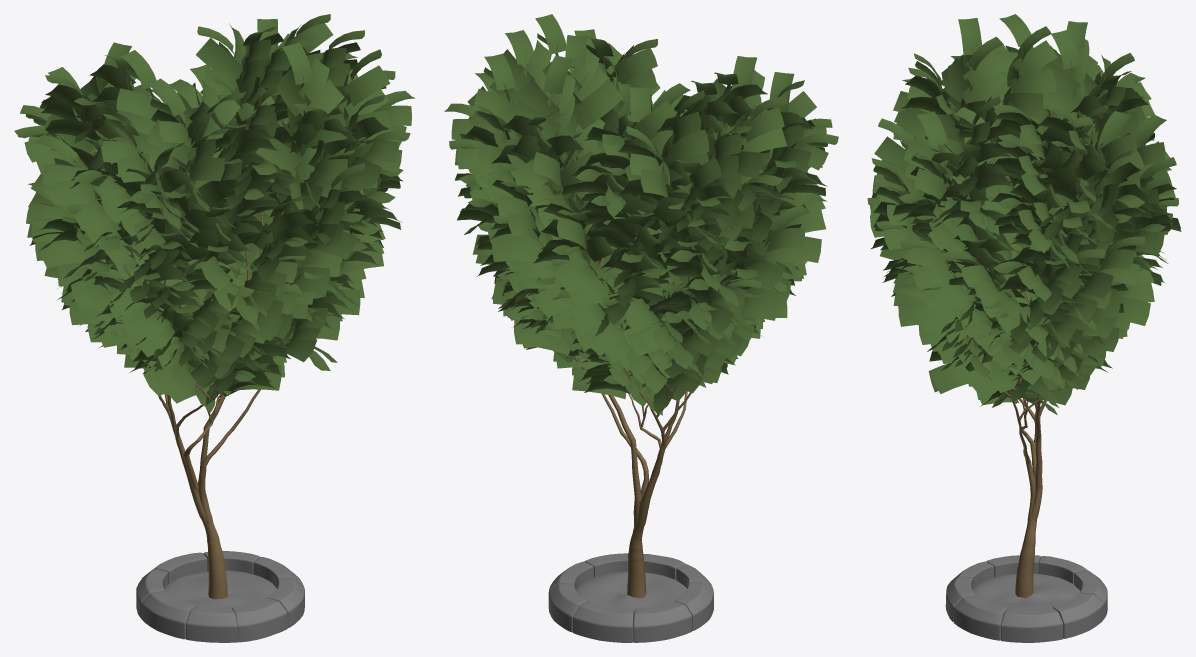
The model's file is Tree_2.fbx.
3 renders of one model, left to right at view 1: azimuth 30°, elevation 25°; view 2: azimuth 150°, elevation 25°; view 3: azimuth 270°, elevation 25°, orthographic. The views are drawn at different scales.
Parts seen in each view (by area): view 1: Tree_2_GEO; view 2: Tree_2_GEO; view 3: Tree_2_GEO.
Boxes of the visible parts, box(x1,y1,x2,y2) form: Tree_2_GEO: box(14, 14, 415, 642); Tree_2_GEO: box(444, 14, 838, 642); Tree_2_GEO: box(867, 14, 1181, 642).
Size of the model in its own units: 2.66 by 4.12 by 2.15.
